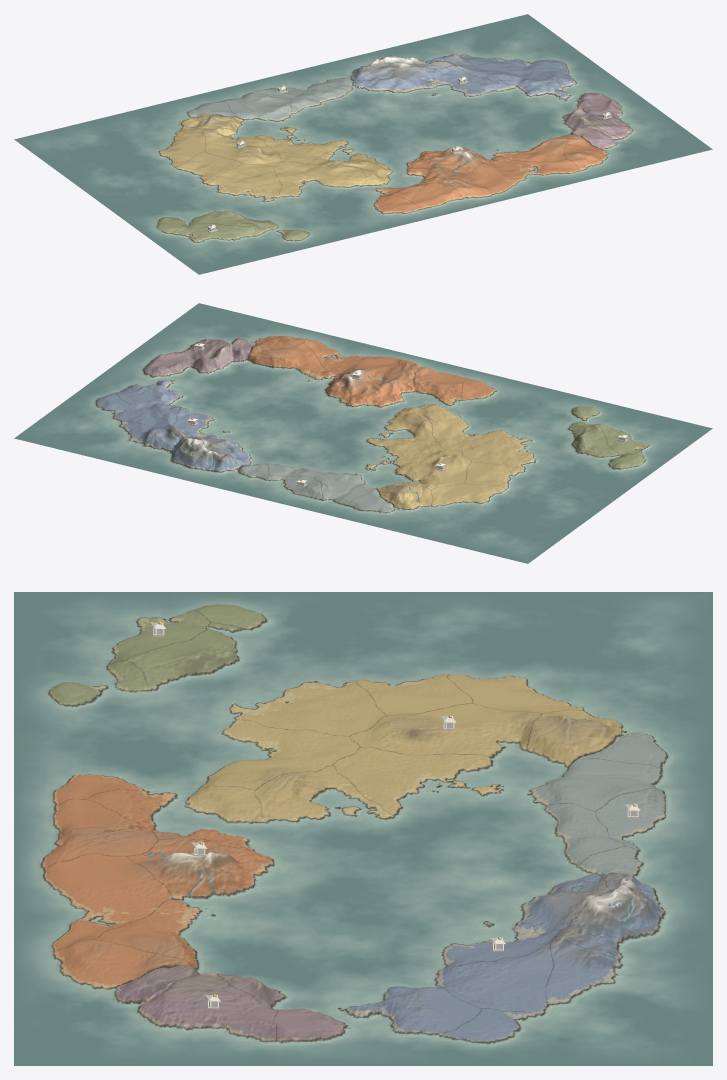
Rendered from world.glb.
3 views of the same model, one above another, from view 1: azimuth 30°, elevation 25°; view 2: azimuth 150°, elevation 25°; view 3: azimuth 270°, elevation 25° (orthographic). The views are drawn at different scales.
Visible parts, largest first — view 1: WorldTerrain; view 2: WorldTerrain; view 3: WorldTerrain.
Part boxes in pixels (x1,y1,x2,y2): WorldTerrain: (14,14,712,274); WorldTerrain: (14,303,712,563); WorldTerrain: (14,592,712,1065).
Size of the model in its own units: 24 by 0.7885 by 14.96.
3 materials, 1 textured.
